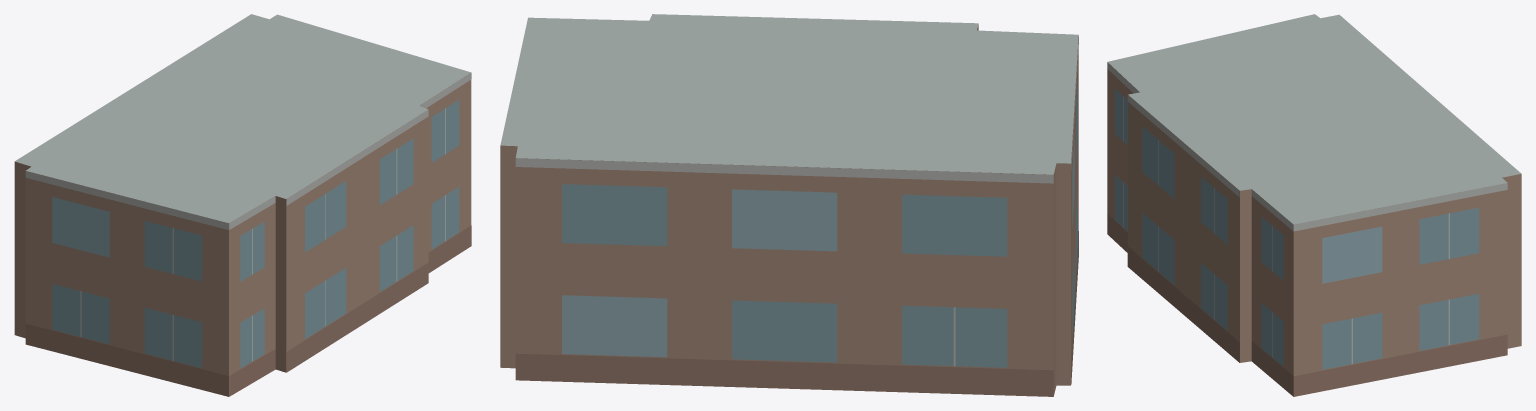
The model's file is survey-upis-32730131.glb.
3 views of the same model, side by side, from view 1: azimuth 30°, elevation 25°; view 2: azimuth 150°, elevation 25°; view 3: azimuth 270°, elevation 25° (orthographic). The views are drawn at different scales.
Parts seen in each view (by area): view 1: survey-upis-32730131.tmp; view 2: survey-upis-32730131.tmp; view 3: survey-upis-32730131.tmp.
Boxes of the visible parts, bbox=[...] form: survey-upis-32730131.tmp: bbox=[14, 14, 471, 396]; survey-upis-32730131.tmp: bbox=[500, 14, 1078, 396]; survey-upis-32730131.tmp: bbox=[1107, 14, 1521, 396].
Size of the model in its own units: 16.01 by 6.1 by 13.31.
